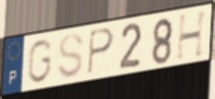2: (119, 21, 144, 71)
8: (150, 14, 174, 66)
G: (26, 37, 55, 85)
H: (175, 8, 210, 63)
P: (86, 26, 116, 77)
S: (56, 32, 86, 80)
